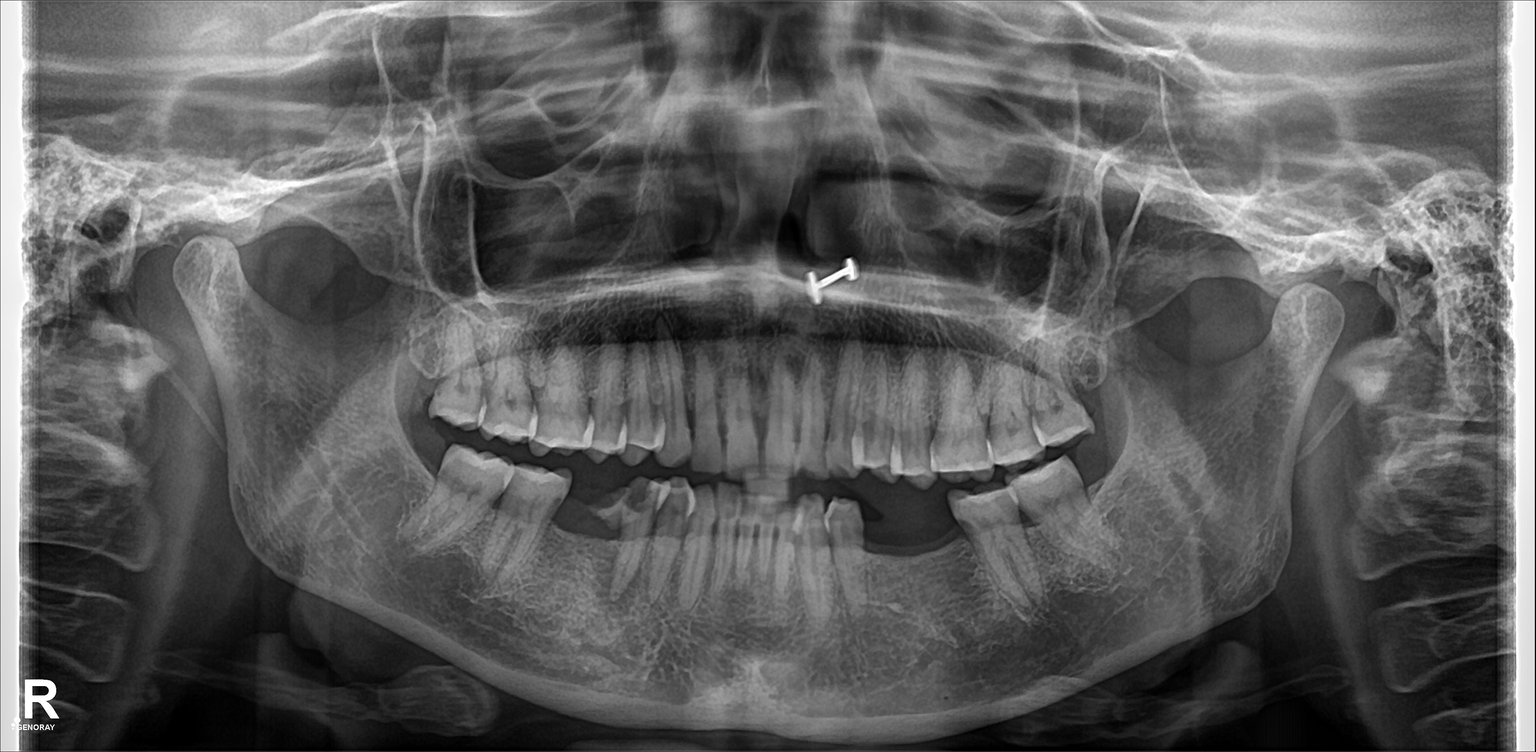Dental Caries: (602, 473, 651, 514)
Missing Tooth: (868, 501, 910, 605), (918, 493, 956, 593), (566, 475, 596, 600), (402, 415, 444, 500), (404, 315, 439, 389), (1082, 342, 1116, 402), (1088, 449, 1123, 506)
